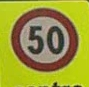limite 50: (10, 6, 78, 73)
